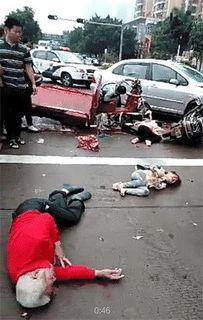Fall-Detected: (108, 157, 182, 200)
